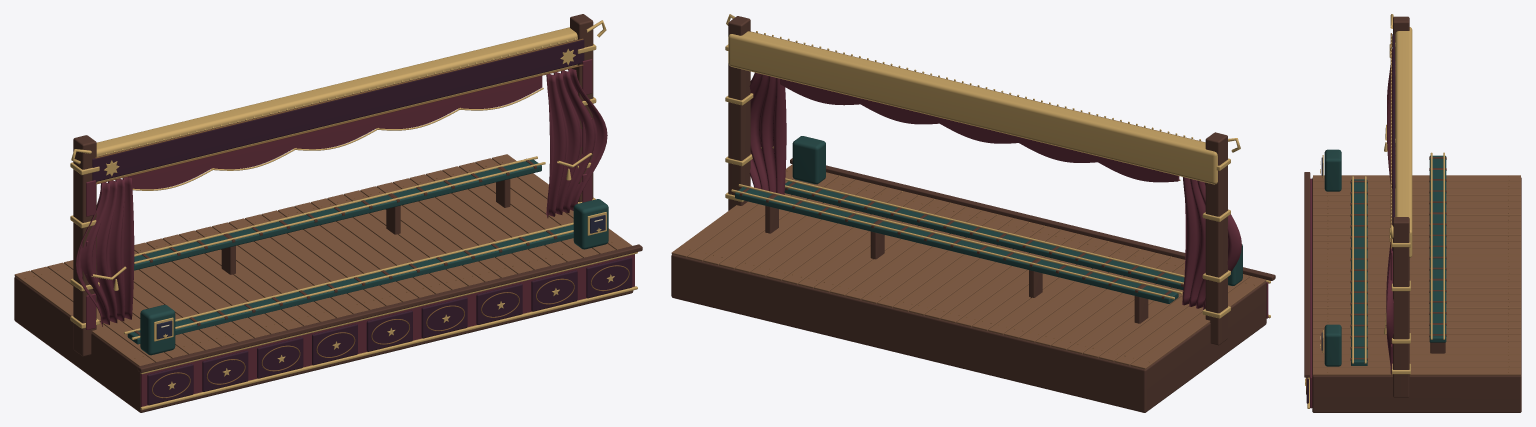
File: carnival_booth.glb
The picture shows the model from 3 angles, left to right: view 1: azimuth 30°, elevation 25°; view 2: azimuth 150°, elevation 25°; view 3: azimuth 270°, elevation 25°; orthographic projection. The views are drawn at different scales.
Visible parts, largest first — view 1: carnival_booth_Body_wood_planks, carnival_booth_Body_velvet_shadow, carnival_booth_Body_aged_brass, carnival_booth_Body_carved_mahogany, carnival_booth_Body_wine_velvet, carnival_booth_Body_midnight_teal, carnival_booth_Curtain_L_wine_velvet, carnival_booth_Curtain_R_wine_velvet, carnival_booth_Body_antique_gold; view 2: carnival_booth_Body_wood_planks, carnival_booth_Body_carved_mahogany, carnival_booth_Body_aged_brass, carnival_booth_Body_midnight_teal, carnival_booth_Body_wine_velvet, carnival_booth_Curtain_R_wine_velvet, carnival_booth_Curtain_L_wine_velvet, carnival_booth_Body_antique_gold; view 3: carnival_booth_Body_wood_planks, carnival_booth_Body_carved_mahogany, carnival_booth_Body_midnight_teal, carnival_booth_Body_aged_brass, carnival_booth_Body_wine_velvet, carnival_booth_Curtain_R_wine_velvet, carnival_booth_Body_velvet_shadow, carnival_booth_Curtain_L_wine_velvet, carnival_booth_Body_antique_gold.
Boxes of the visible parts, left/top/right/bottom form: carnival_booth_Body_wood_planks: left=14, top=154, right=632, bottom=366; carnival_booth_Body_velvet_shadow: left=92, top=39, right=632, bottom=405; carnival_booth_Body_aged_brass: left=70, top=20, right=637, bottom=410; carnival_booth_Body_carved_mahogany: left=14, top=14, right=642, bottom=412; carnival_booth_Body_wine_velvet: left=86, top=59, right=634, bottom=406; carnival_booth_Body_midnight_teal: left=127, top=159, right=608, bottom=355; carnival_booth_Curtain_L_wine_velvet: left=75, top=177, right=134, bottom=326; carnival_booth_Curtain_R_wine_velvet: left=546, top=68, right=607, bottom=218; carnival_booth_Body_antique_gold: left=24, top=38, right=629, bottom=398; carnival_booth_Body_wood_planks: left=671, top=164, right=1266, bottom=369; carnival_booth_Body_carved_mahogany: left=671, top=16, right=1275, bottom=412; carnival_booth_Body_aged_brass: left=725, top=14, right=1270, bottom=318; carnival_booth_Body_midnight_teal: left=735, top=136, right=1242, bottom=303; carnival_booth_Body_wine_velvet: left=780, top=78, right=1268, bottom=318; carnival_booth_Curtain_R_wine_velvet: left=749, top=72, right=786, bottom=194; carnival_booth_Curtain_L_wine_velvet: left=1182, top=177, right=1241, bottom=309; carnival_booth_Body_antique_gold: left=681, top=31, right=1254, bottom=362; carnival_booth_Body_wood_planks: left=1313, top=175, right=1520, bottom=375; carnival_booth_Body_carved_mahogany: left=1304, top=16, right=1521, bottom=412; carnival_booth_Body_midnight_teal: left=1324, top=149, right=1446, bottom=366; carnival_booth_Body_aged_brass: left=1305, top=14, right=1444, bottom=408; carnival_booth_Body_wine_velvet: left=1310, top=49, right=1392, bottom=408; carnival_booth_Curtain_R_wine_velvet: left=1386, top=242, right=1393, bottom=365; carnival_booth_Body_velvet_shadow: left=1306, top=34, right=1394, bottom=403; carnival_booth_Curtain_L_wine_velvet: left=1387, top=60, right=1395, bottom=188; carnival_booth_Body_antique_gold: left=1306, top=33, right=1509, bottom=394.
Size of the model in its own units: 19.5 by 8.2 by 8.3.
